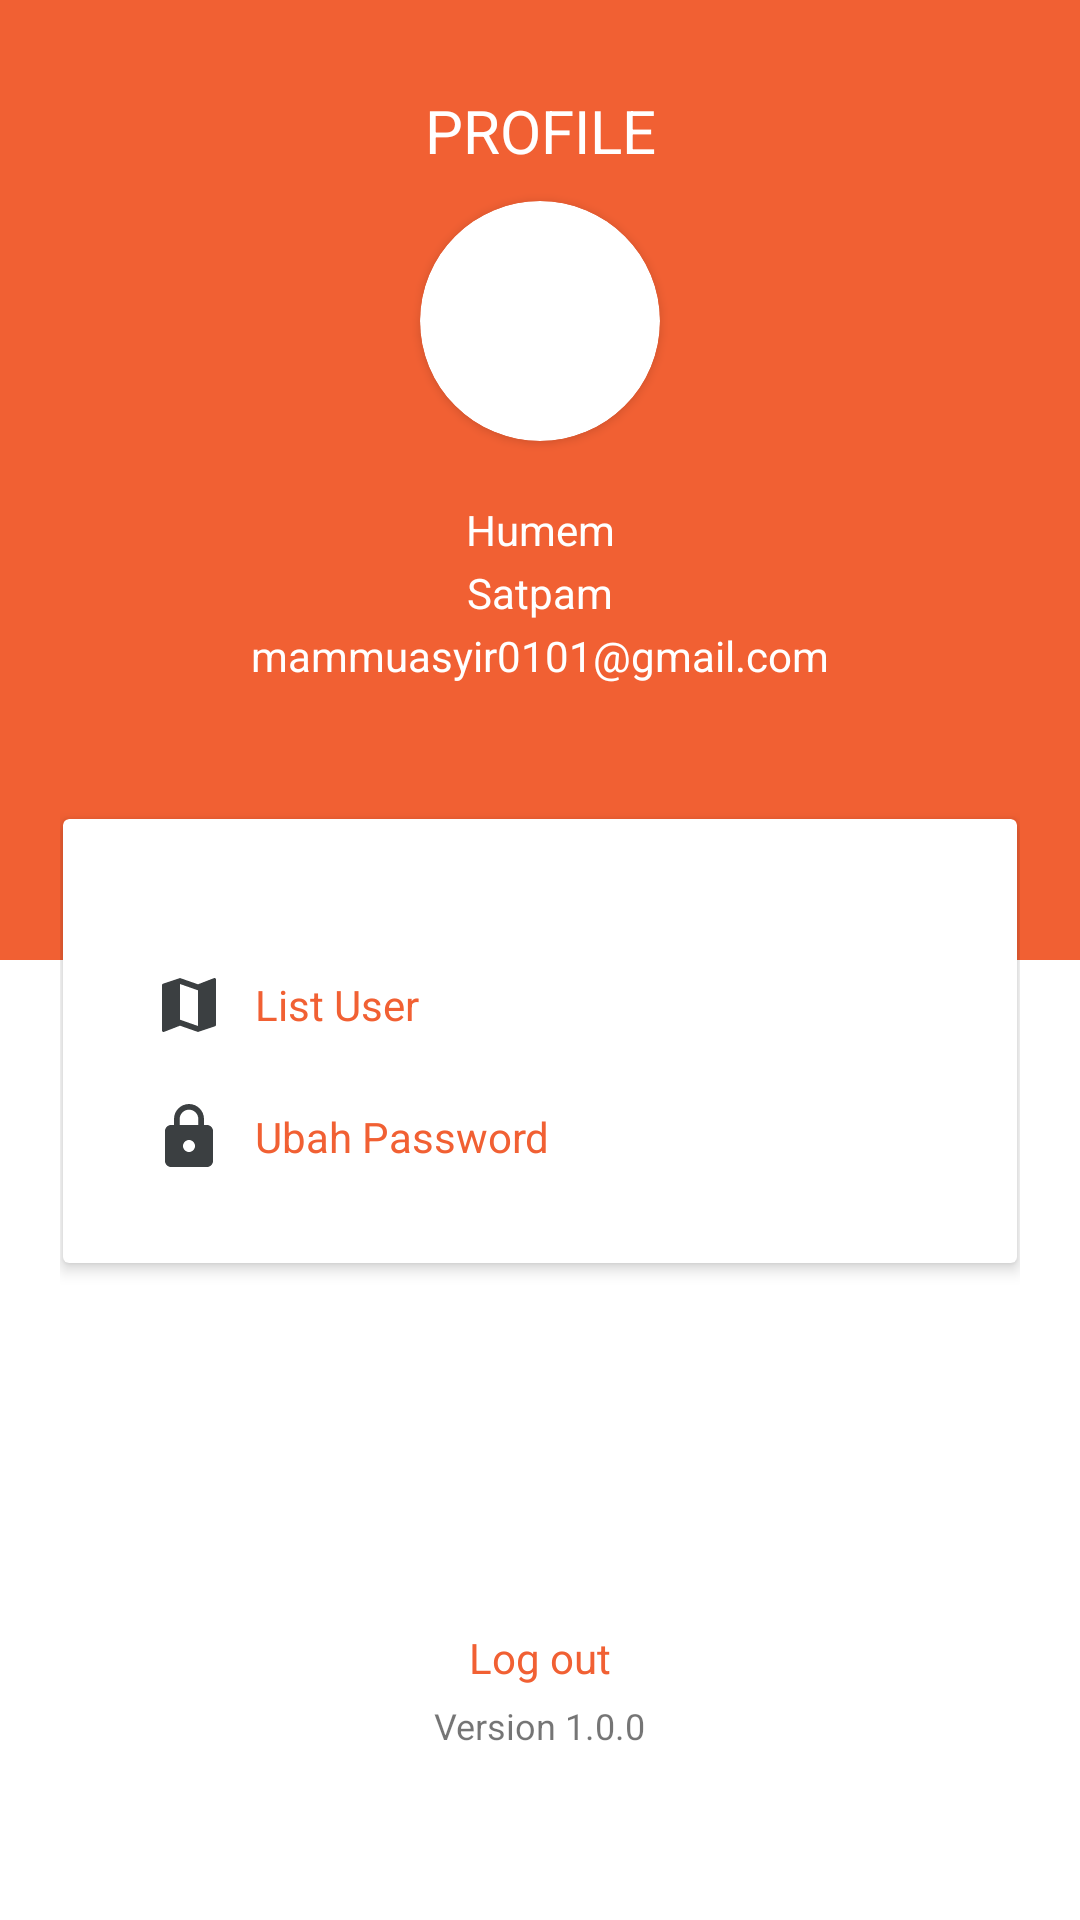

Icon click points for this 1080px×1920px phone screenshot, format (x=x, y=y):
lock: (x=189, y=1135)
map: (x=189, y=1005)
